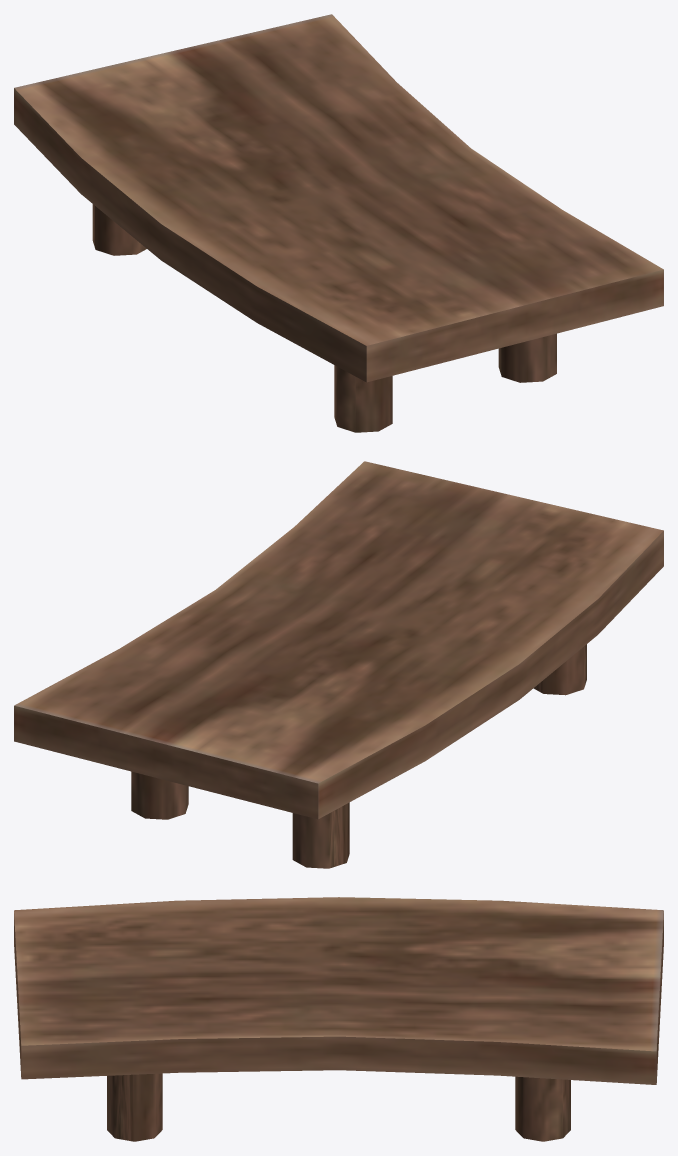
Rendered from tukueE01.fbx.
3 renders of one model, top to bottom at view 1: azimuth 30°, elevation 25°; view 2: azimuth 150°, elevation 25°; view 3: azimuth 270°, elevation 25°, orthographic. The views are drawn at different scales.
Parts seen in each view (by area): view 1: tukueE01, ashi; view 2: tukueE01, ashi; view 3: tukueE01, ashi.
Part boxes in pixels (<box>): tukueE01: <box>14,14,663,382</box>; ashi: <box>92,204,556,432</box>; tukueE01: <box>14,461,663,819</box>; ashi: <box>131,644,586,868</box>; tukueE01: <box>14,897,663,1084</box>; ashi: <box>107,1073,570,1141</box>.
Size of the model in its own units: 197 by 70 by 350.
